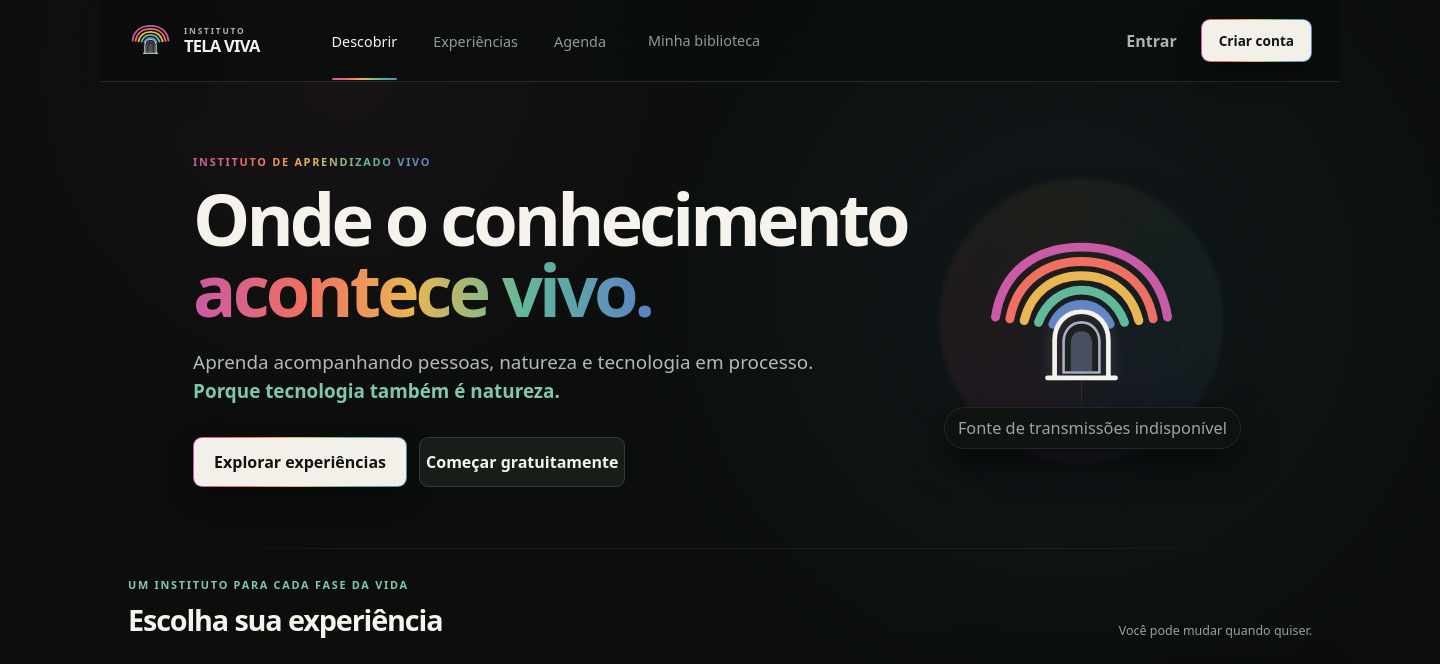
Scenario: Instituto Tela Viva › abre autenticação sem depender de uma transmissão fictícia
Click the button "Entrar" at {"x": 1152, "y": 40}, box top-left (1116, 20), bottom-right (1187, 62)
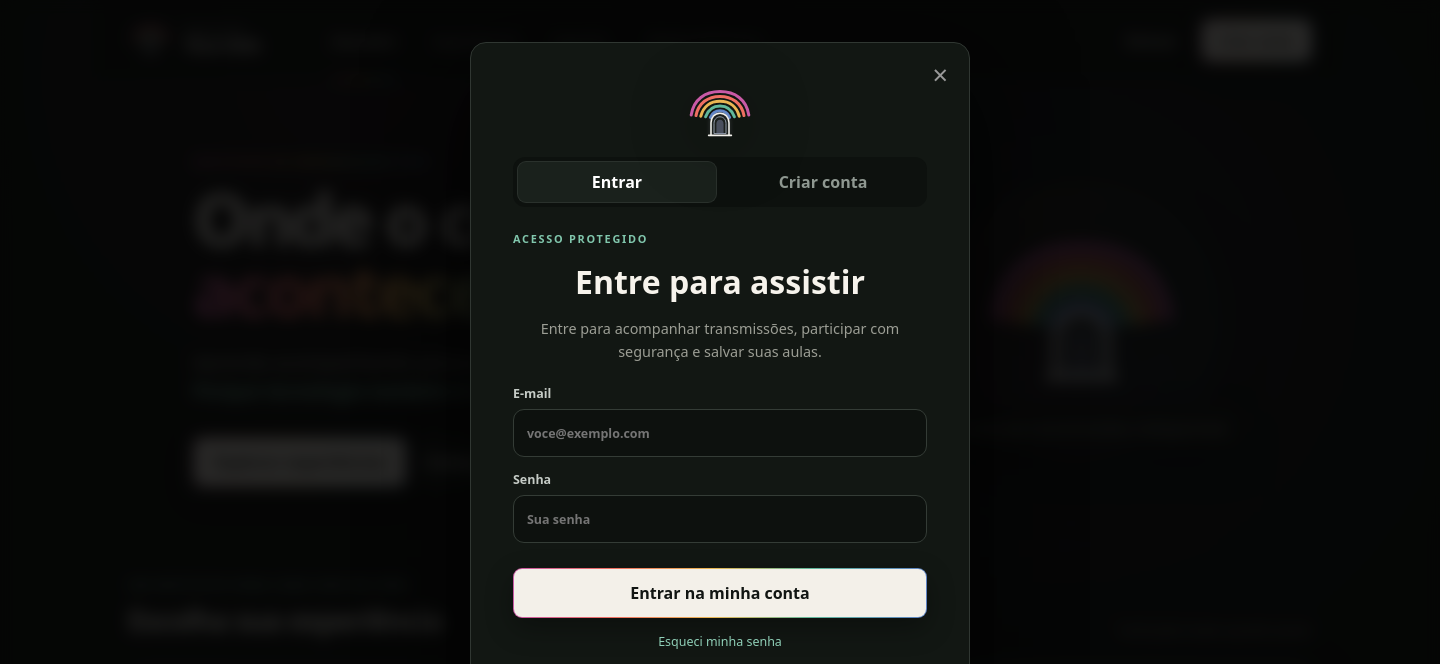
Result: the field labelled "E-mail" is shown at top-left (513, 409), bottom-right (927, 457)
Result: the password field labelled "Senha" is shown at top-left (513, 495), bottom-right (927, 543)
Result: the button "Entrar na minha conta" is shown at top-left (513, 568), bottom-right (927, 618)
